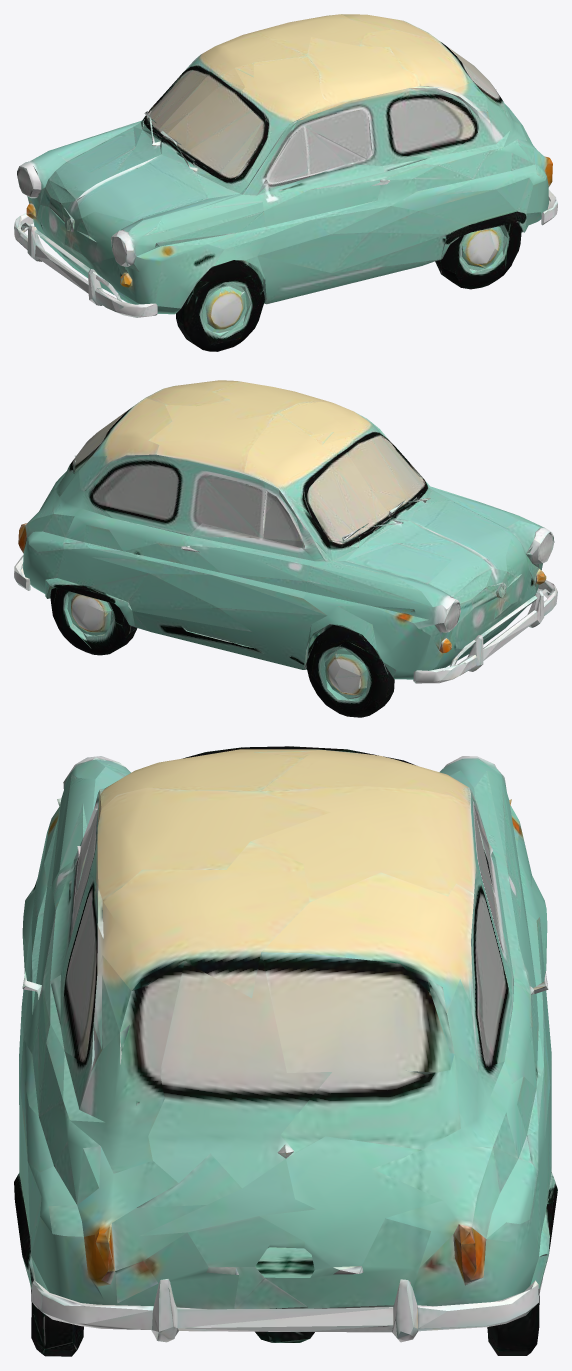
Rendered from car.glb.
3 renders of one model, top to bottom at view 1: azimuth 30°, elevation 25°; view 2: azimuth 150°, elevation 25°; view 3: azimuth 270°, elevation 25°, orthographic. The views are drawn at different scales.
Size of the model in its own units: 1.9 by 0.8814 by 0.9849.
Materials: 1 (1 with a texture image).
